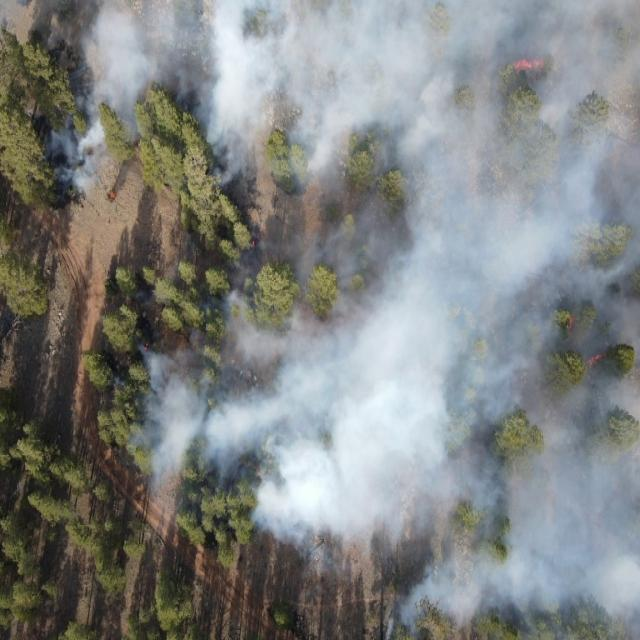fire: (514, 60, 546, 70), (585, 352, 606, 367), (566, 313, 575, 333), (141, 344, 152, 354), (109, 192, 118, 199), (250, 240, 257, 246)
smoke: (374, 0, 640, 640), (235, 212, 374, 582), (202, 1, 374, 186), (158, 288, 236, 514), (46, 0, 203, 100), (44, 102, 109, 204), (130, 337, 158, 485), (112, 100, 148, 144), (96, 360, 130, 390), (108, 429, 130, 458), (181, 101, 201, 125)
